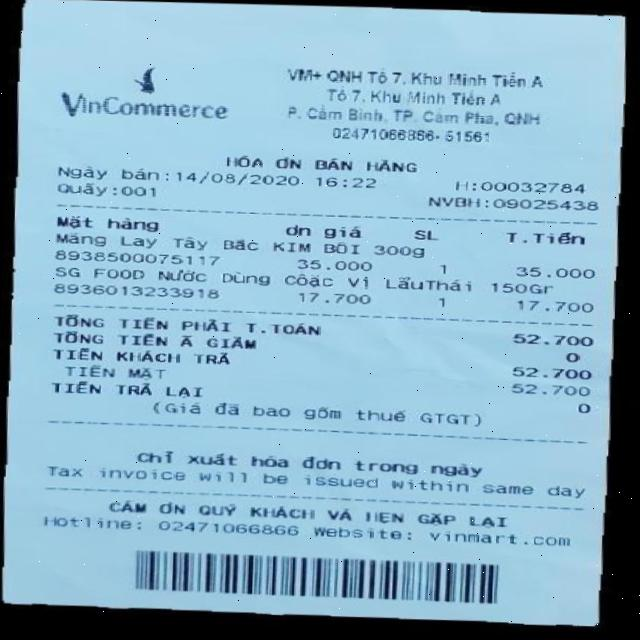Date: (170, 168, 304, 189)
Store_Name: (51, 90, 233, 127)
amount_number: (509, 329, 598, 348)
label_total: (43, 310, 329, 340)
